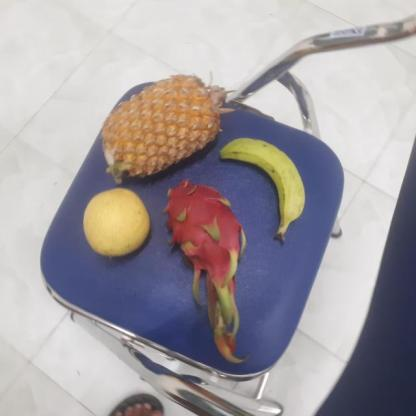banana: (214, 137, 306, 232)
guava: (80, 189, 150, 257)
pineapple: (100, 74, 223, 183)
pitaya: (156, 181, 244, 278)
